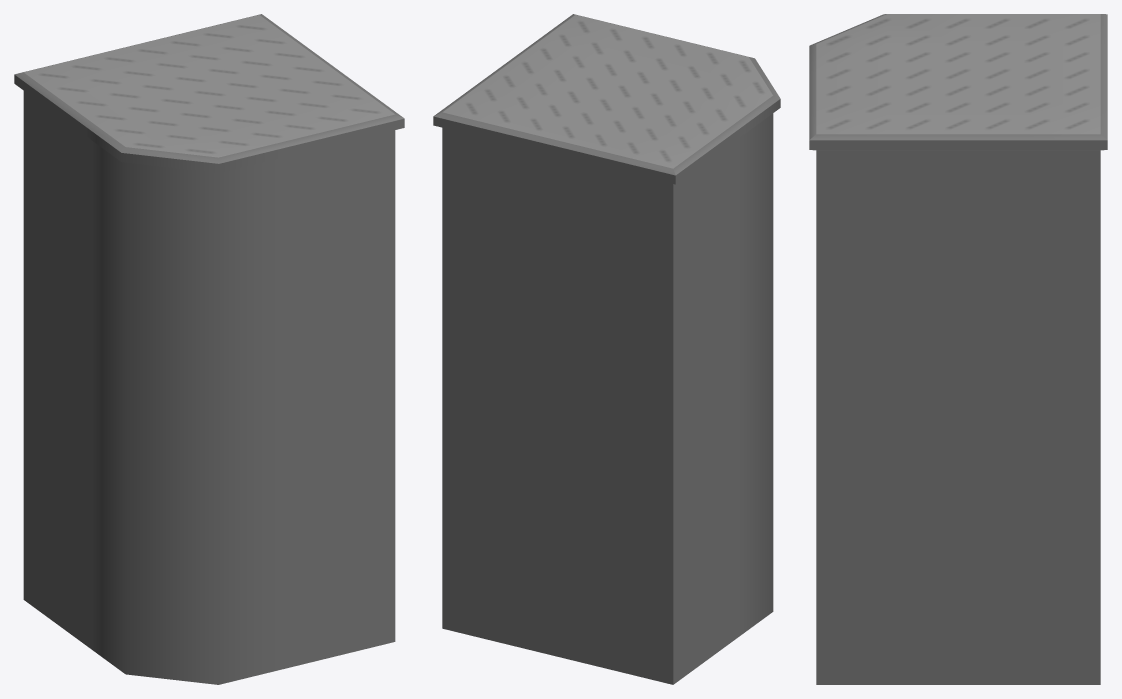
The model's file is Stone Angle 1 LU.fbx.
The picture shows the model from 3 angles, left to right: view 1: azimuth 30°, elevation 25°; view 2: azimuth 150°, elevation 25°; view 3: azimuth 270°, elevation 25°; orthographic projection. The views are drawn at different scales.
Visible parts, largest first — view 1: Stone_Angle_1_LU; view 2: Stone_Angle_1_LU; view 3: Stone_Angle_1_LU.
Boxes of the visible parts, bbox=[...] form: Stone_Angle_1_LU: bbox=[14, 14, 404, 684]; Stone_Angle_1_LU: bbox=[433, 14, 780, 684]; Stone_Angle_1_LU: bbox=[809, 14, 1107, 684].
Bounding box in the file's own units: 4.2 × 8.55 × 4.2.
